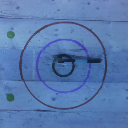Axe Tip: (53, 56, 64, 59)
